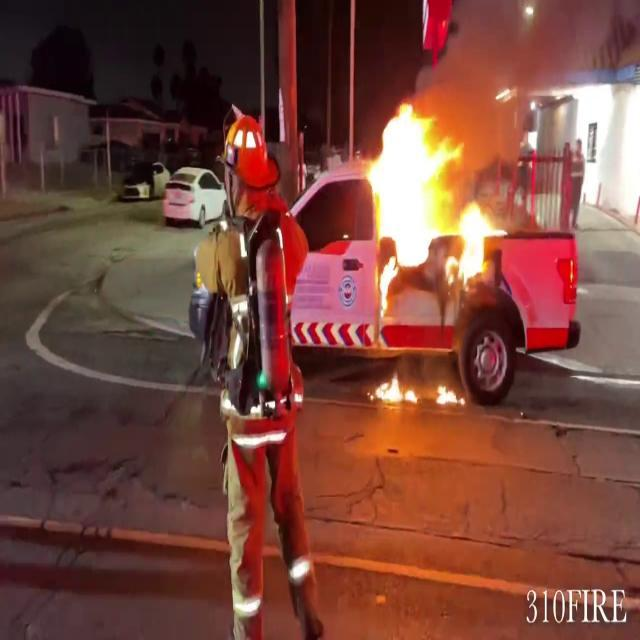Fire: (359, 99, 504, 319), (369, 366, 418, 408)
Smoke: (421, 0, 593, 151), (430, 382, 464, 410)
